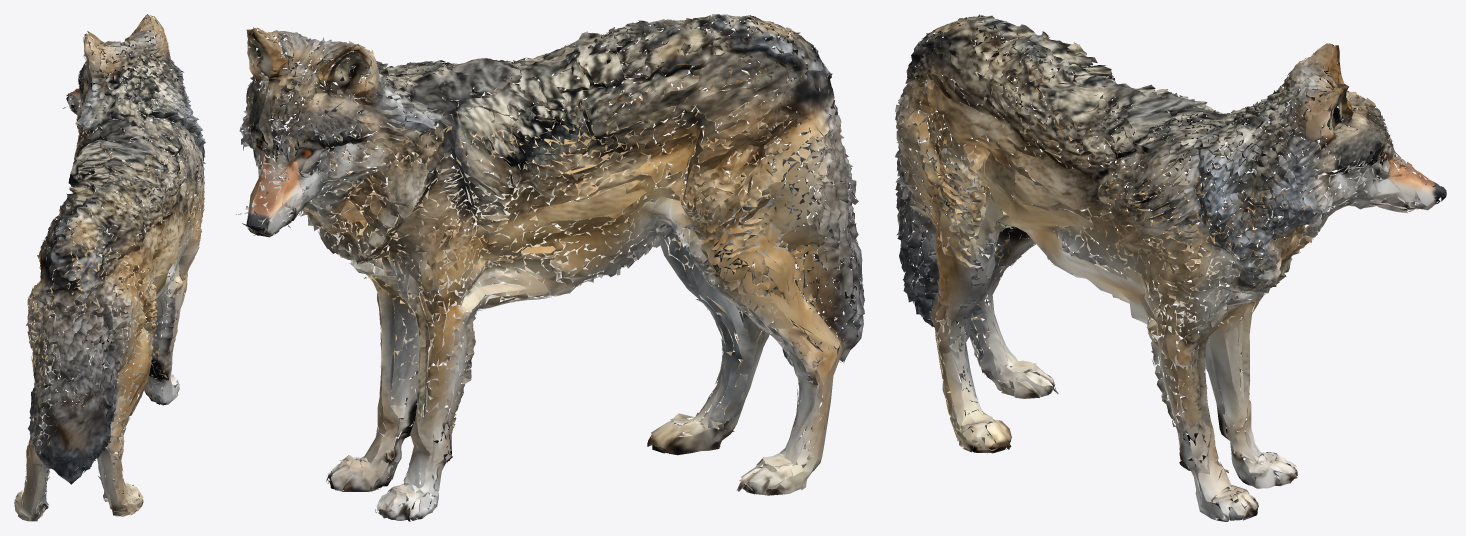
The picture shows the model from 3 angles, left to right: view 1: azimuth 30°, elevation 25°; view 2: azimuth 150°, elevation 25°; view 3: azimuth 270°, elevation 25°; orthographic projection. The views are drawn at different scales.
Visible parts, largest first — view 1: geometry_0; view 2: geometry_0; view 3: geometry_0.
Boxes of the visible parts, x1=… form: geometry_0: x1=14, y1=14, x2=205, y2=521; geometry_0: x1=236, y1=14, x2=864, y2=521; geometry_0: x1=895, y1=14, x2=1446, y2=521.
Bounding box in the file's own units: 0.6842 × 0.788 × 0.853.
1 material, 1 textured.
